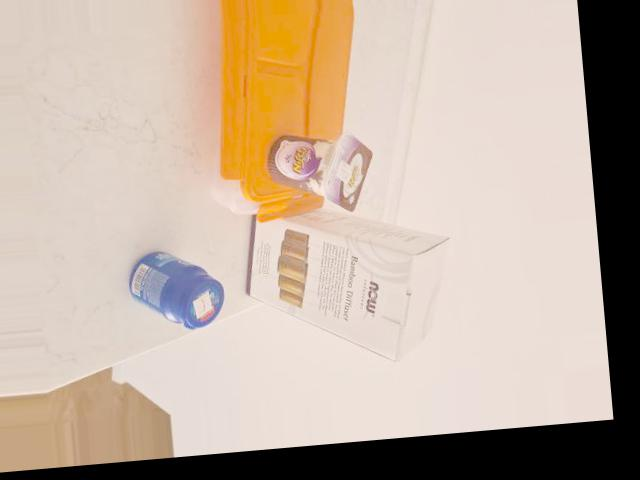milky: (263, 127, 378, 220)
